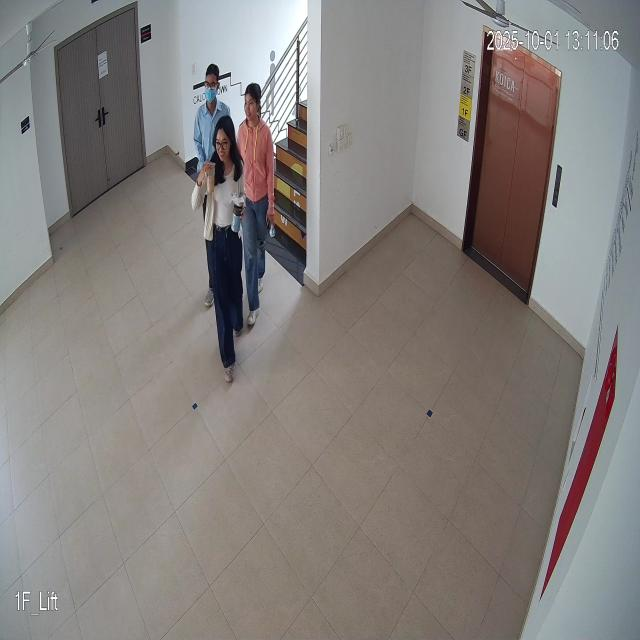face: (211, 111, 236, 168), (240, 84, 266, 132)
